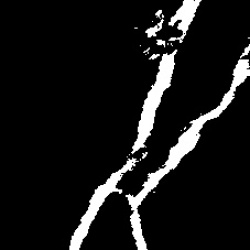crack: (70, 5, 199, 244), (128, 53, 246, 245)
